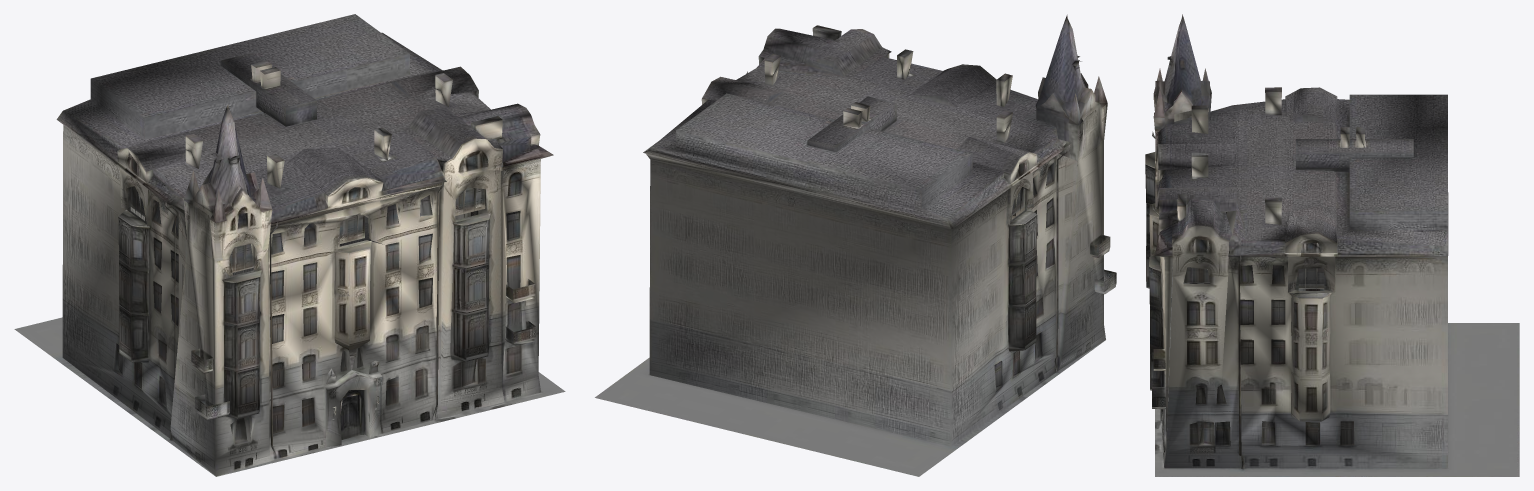
File: spb_r4.glb
3 renders of one model, left to right at view 1: azimuth 30°, elevation 25°; view 2: azimuth 150°, elevation 25°; view 3: azimuth 270°, elevation 25°, orthographic. The views are drawn at different scales.
Visible parts, largest first — view 1: tripo_node_de8e553e; view 2: tripo_node_de8e553e; view 3: tripo_node_de8e553e.
Boxes of the visible parts, box(x1,y1,x2,y2) form: tripo_node_de8e553e: box(14, 14, 565, 476); tripo_node_de8e553e: box(595, 14, 1116, 476); tripo_node_de8e553e: box(1145, 14, 1519, 476).
Bounding box in the file's own units: 0.9907 × 0.9364 × 0.9903.
Materials: 1 (1 with a texture image).
